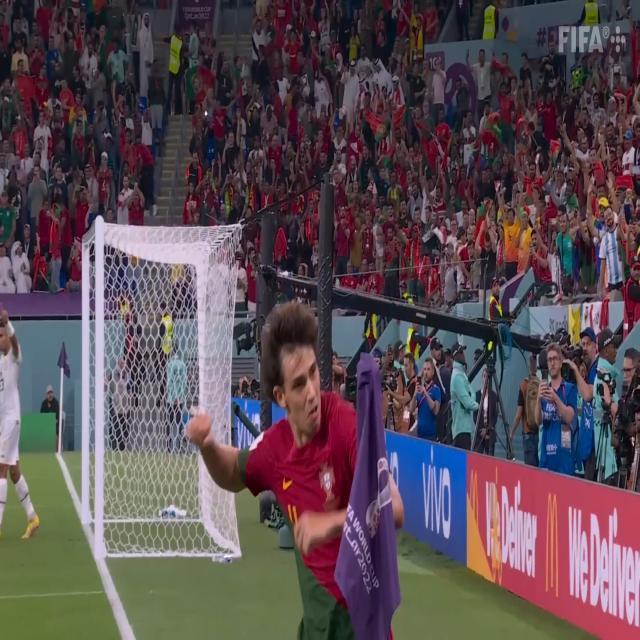player: (181, 304, 416, 638)
